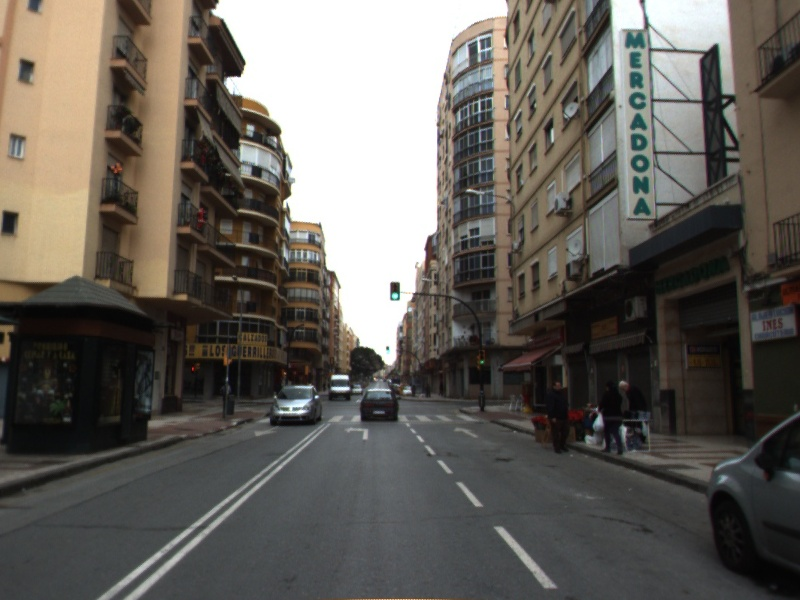LEFT: (343, 425, 370, 441)
STRAIGHT: (452, 425, 480, 439)
